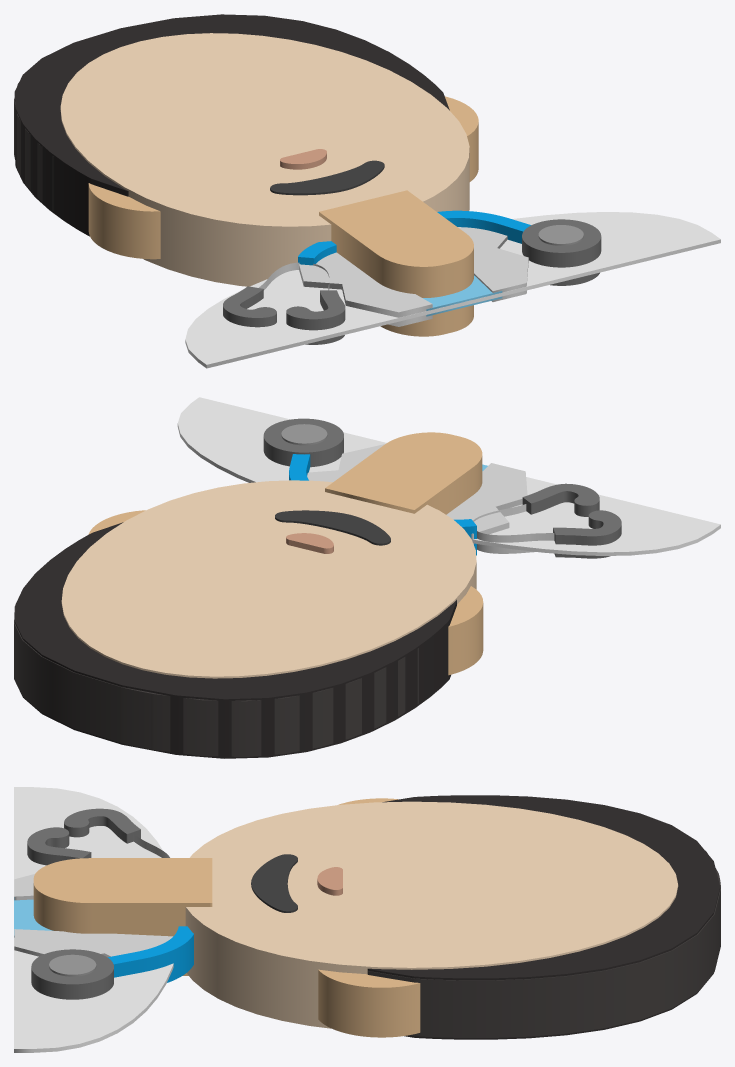
The model's file is emoji_u1f468_1f3fb_200d_2695.glb.
3 renders of one model, top to bottom at view 1: azimuth 30°, elevation 25°; view 2: azimuth 150°, elevation 25°; view 3: azimuth 270°, elevation 25°, orthographic. The views are drawn at different scales.
Parts seen in each view (by area): view 1: emoji_u1f468_1f3fb_200d_2695; view 2: emoji_u1f468_1f3fb_200d_2695; view 3: emoji_u1f468_1f3fb_200d_2695.
Part boxes in pixels (left/top/right/bottom): emoji_u1f468_1f3fb_200d_2695: left=14, top=14, right=720, bottom=368; emoji_u1f468_1f3fb_200d_2695: left=14, top=397, right=720, bottom=758; emoji_u1f468_1f3fb_200d_2695: left=14, top=787, right=720, bottom=1052.
Bounding box in the file's own units: 0.0293 × 0.004 × 0.0334.
